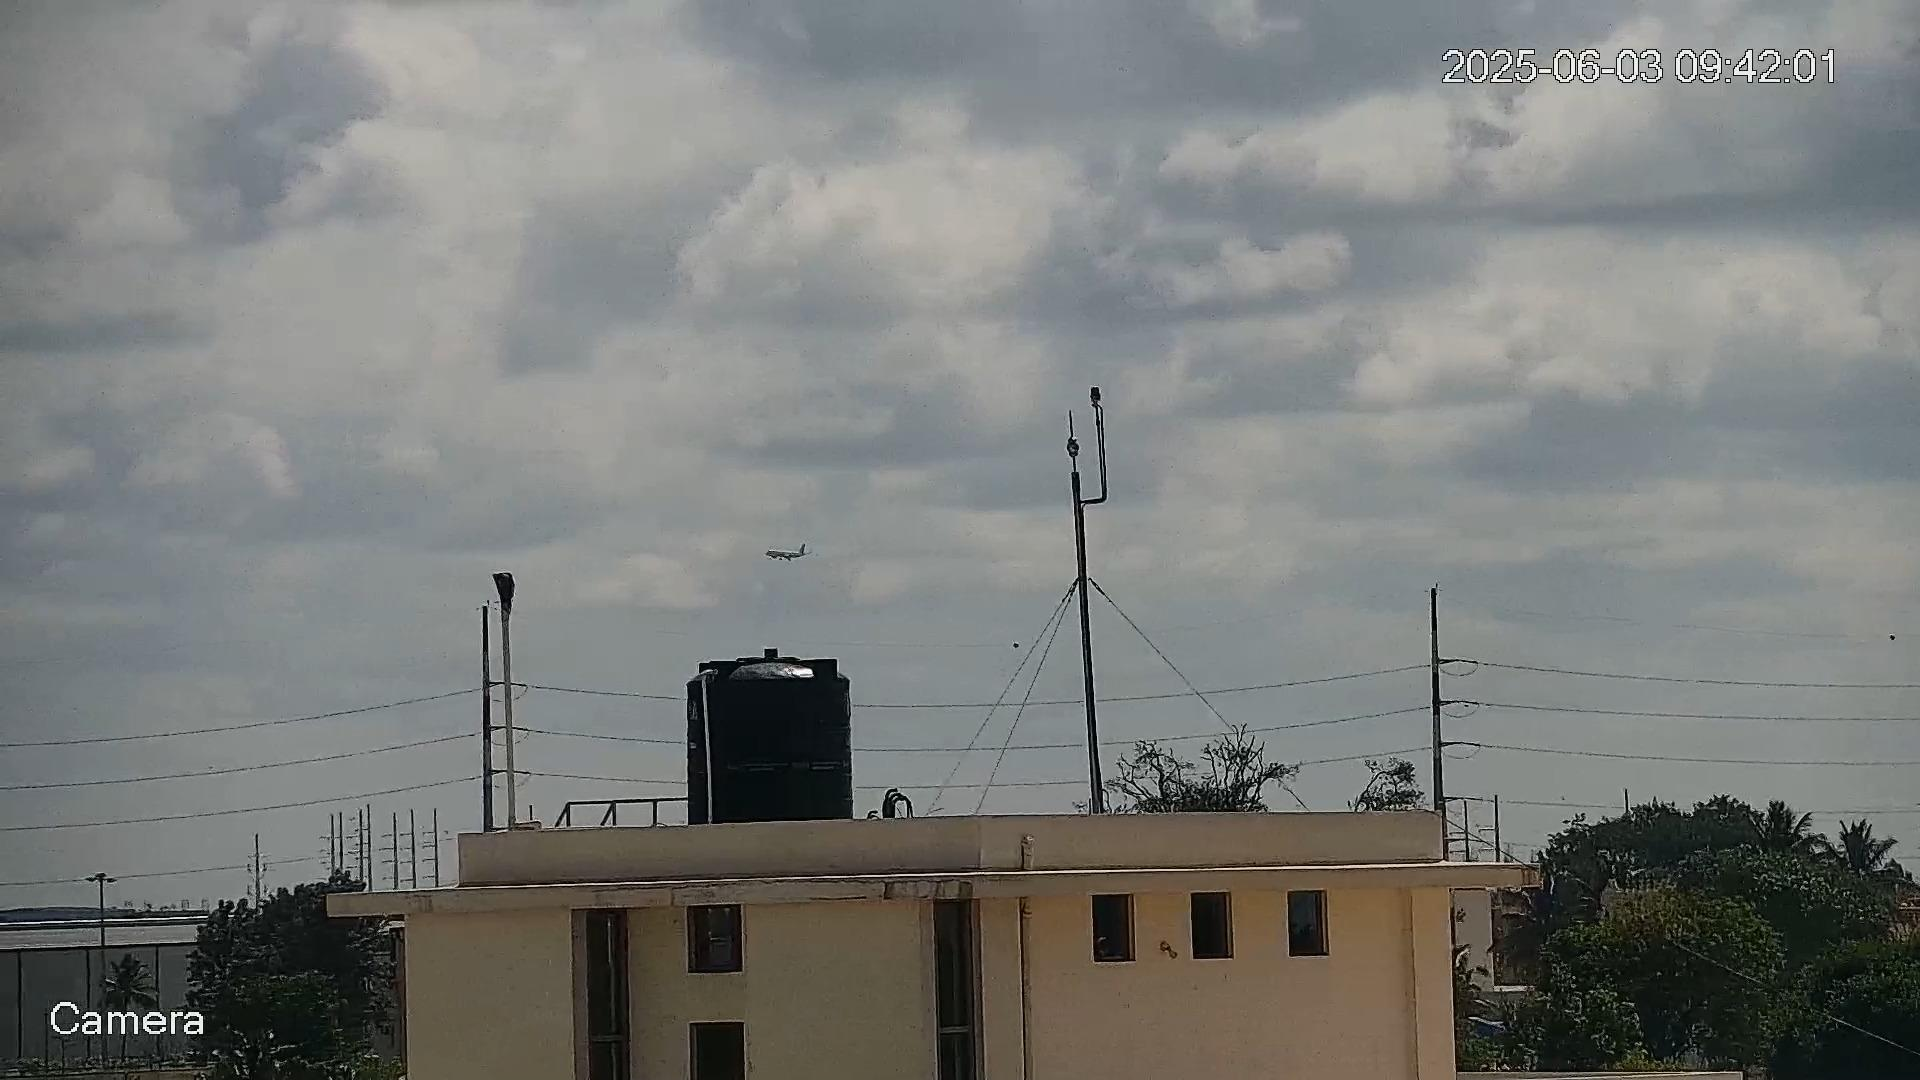Aircraft: (764, 545, 811, 562)
